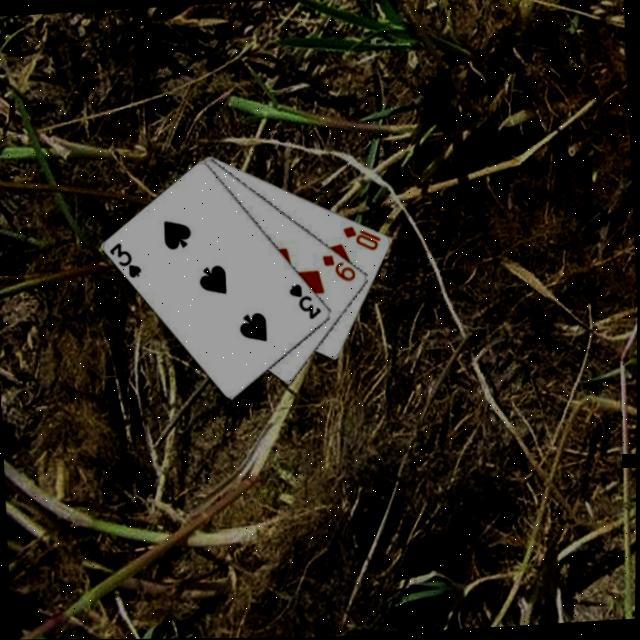10D: (339, 221, 384, 254)
3S: (106, 238, 144, 282), (286, 280, 324, 322)
9D: (318, 251, 358, 285)
